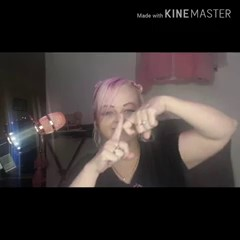K: (94, 97, 167, 171)
